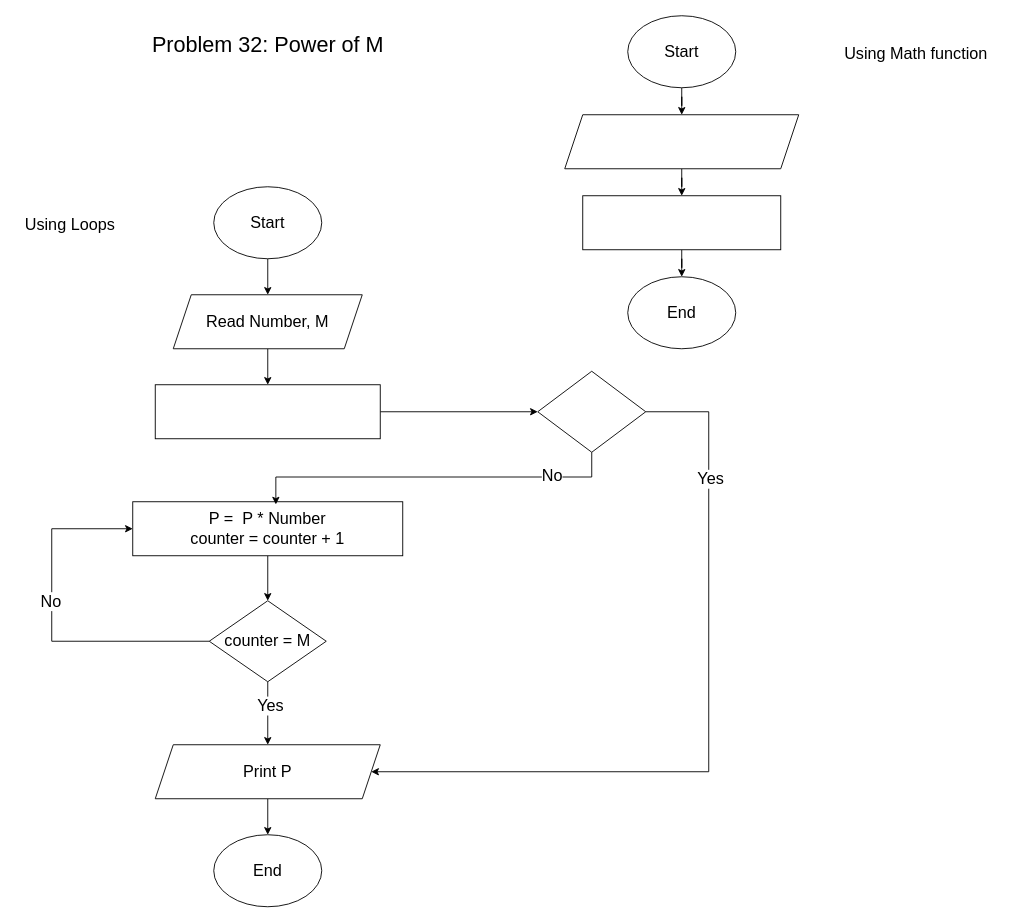
The diagram is 1012 pixels wide and 923 high, and some of its shapes have lost their labels. Here are the shapes that lost their labels. From the top down, the centre of each, then its label:
At pixel 681 141: "Read Number, Power".
At pixel 681 222: "Pow(Number, Power)".
At pixel 267 411: "P = 1 counter = 0".
At pixel 591 411: "Power = 0".
